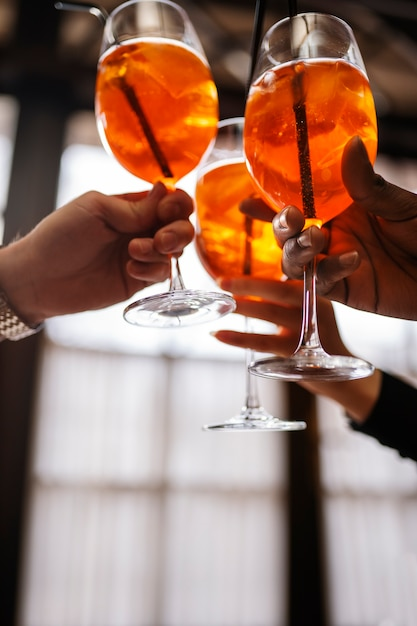alcohol: (245, 16, 383, 379), (91, 0, 237, 330), (193, 119, 321, 435)
